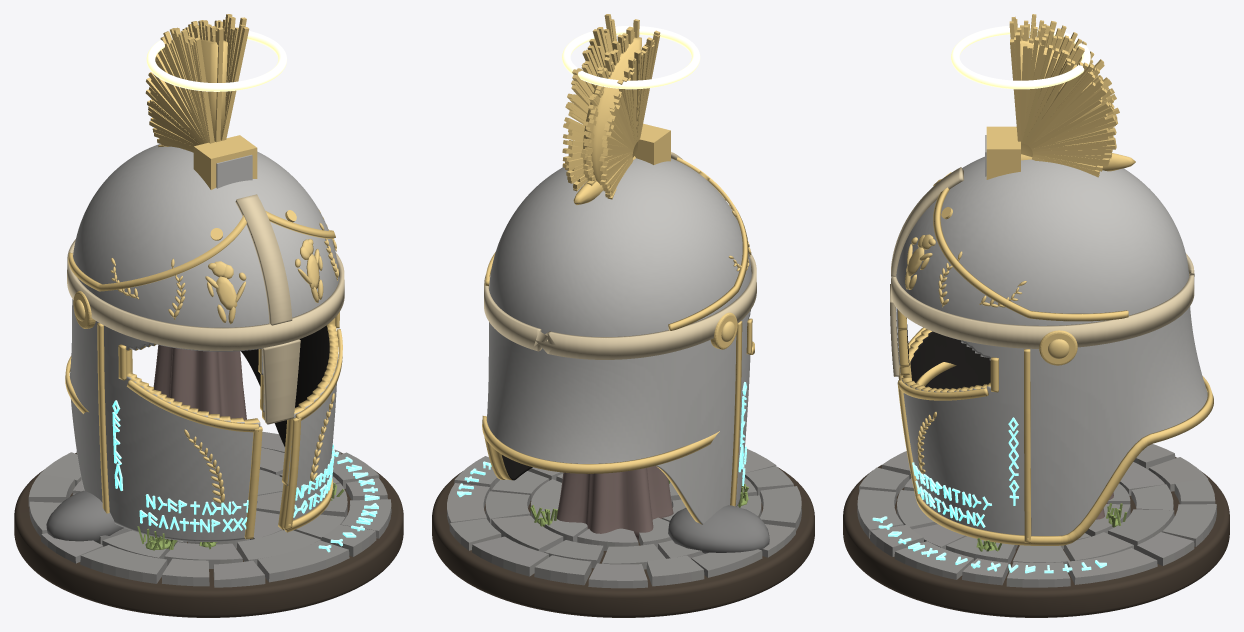
The picture shows the model from 3 angles, left to right: view 1: azimuth 30°, elevation 25°; view 2: azimuth 150°, elevation 25°; view 3: azimuth 270°, elevation 25°; orthographic projection.
Parts seen in each view (by area): view 1: Helmet_Shell, Base_Flagstones, Base_Plinth_Brown, Brow_Band_Greek_Key, Helmet_Gold_Borders, Crest_Bristles, Helmet_Stand_Fluted_Post, Gold_Reliefs_Lions_Laurels, Cheek_Guard_Runes, Nose_Guard_Plate, Base_Rock_Left, Golden_Halo_Ring (+5 smaller); view 2: Helmet_Shell, Base_Flagstones, Base_Plinth_Brown, Crest_Bristles, Brow_Band_Greek_Key, Helmet_Stand_Fluted_Post, Helmet_Gold_Borders, Base_Rock_Left, Golden_Halo_Ring, Crest_Fan_Core, Crest_Holder_Block, Moss_Tufts; view 3: Helmet_Shell, Base_Flagstones, Base_Plinth_Brown, Crest_Bristles, Helmet_Gold_Borders, Brow_Band_Greek_Key, Golden_Halo_Ring, Cheek_Guard_Runes, Gold_Reliefs_Lions_Laurels, Crest_Holder_Block, Base_Glowing_Runes, Ear_Boss_Left (+3 smaller).
Part boxes in pixels (bbox=[...]): Helmet_Shell: bbox=[70, 144, 339, 541]; Base_Flagstones: bbox=[28, 432, 391, 587]; Base_Plinth_Brown: bbox=[14, 453, 403, 617]; Brow_Band_Greek_Key: bbox=[67, 194, 344, 350]; Helmet_Gold_Borders: bbox=[65, 211, 342, 539]; Crest_Bristles: bbox=[145, 14, 249, 152]; Helmet_Stand_Fluted_Post: bbox=[153, 345, 246, 419]; Gold_Reliefs_Lions_Laurels: bbox=[110, 210, 338, 503]; Cheek_Guard_Runes: bbox=[112, 400, 334, 532]; Nose_Guard_Plate: bbox=[262, 339, 300, 424]; Base_Rock_Left: bbox=[46, 490, 123, 542]; Golden_Halo_Ring: bbox=[146, 31, 287, 91]; Helmet_Shell: bbox=[486, 158, 751, 524]; Base_Flagstones: bbox=[447, 449, 801, 588]; Base_Plinth_Brown: bbox=[432, 467, 814, 617]; Crest_Bristles: bbox=[562, 14, 660, 199]; Brow_Band_Greek_Key: bbox=[484, 152, 756, 359]; Helmet_Stand_Fluted_Post: bbox=[557, 466, 673, 540]; Helmet_Gold_Borders: bbox=[482, 157, 754, 506]; Base_Rock_Left: bbox=[668, 505, 769, 553]; Golden_Halo_Ring: bbox=[562, 26, 700, 89]; Crest_Fan_Core: bbox=[583, 37, 641, 183]; Crest_Holder_Block: bbox=[635, 123, 670, 164]; Moss_Tufts: bbox=[530, 480, 748, 526]; Helmet_Shell: bbox=[896, 156, 1207, 535]; Base_Flagstones: bbox=[857, 444, 1216, 587]; Base_Plinth_Brown: bbox=[843, 457, 1229, 617]; Crest_Bristles: bbox=[1009, 14, 1119, 177]; Helmet_Gold_Borders: bbox=[897, 179, 1213, 545]; Brow_Band_Greek_Key: bbox=[891, 167, 1194, 348]; Golden_Halo_Ring: bbox=[951, 25, 1090, 89]; Cheek_Guard_Runes: bbox=[912, 417, 1019, 527]; Gold_Reliefs_Lions_Laurels: bbox=[905, 234, 1026, 473]; Crest_Holder_Block: bbox=[986, 126, 1020, 179]; Base_Glowing_Runes: bbox=[872, 516, 1106, 573]; Ear_Boss_Left: bbox=[1039, 330, 1077, 365].
Size of the model in its own units: 0.6781 by 1 by 0.6781.
